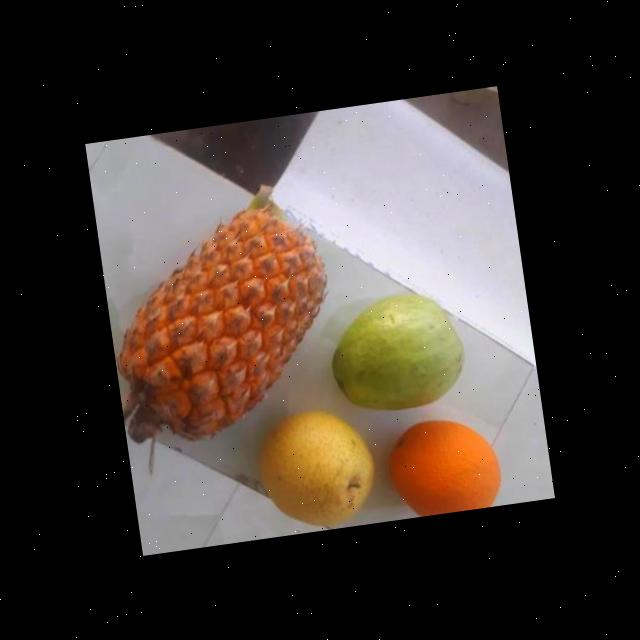guava: (322, 282, 468, 416)
orange: (380, 408, 504, 520)
pear: (252, 399, 382, 537)
pineapple: (105, 199, 344, 439)
